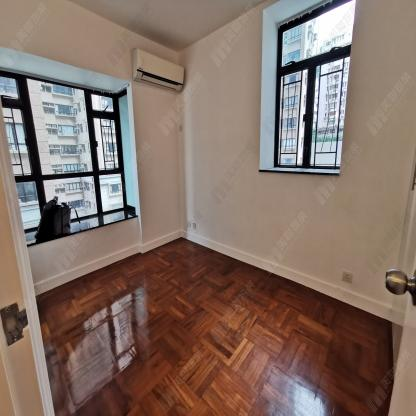AC: (132, 47, 184, 93)
Windowsill: (1, 44, 140, 249)
